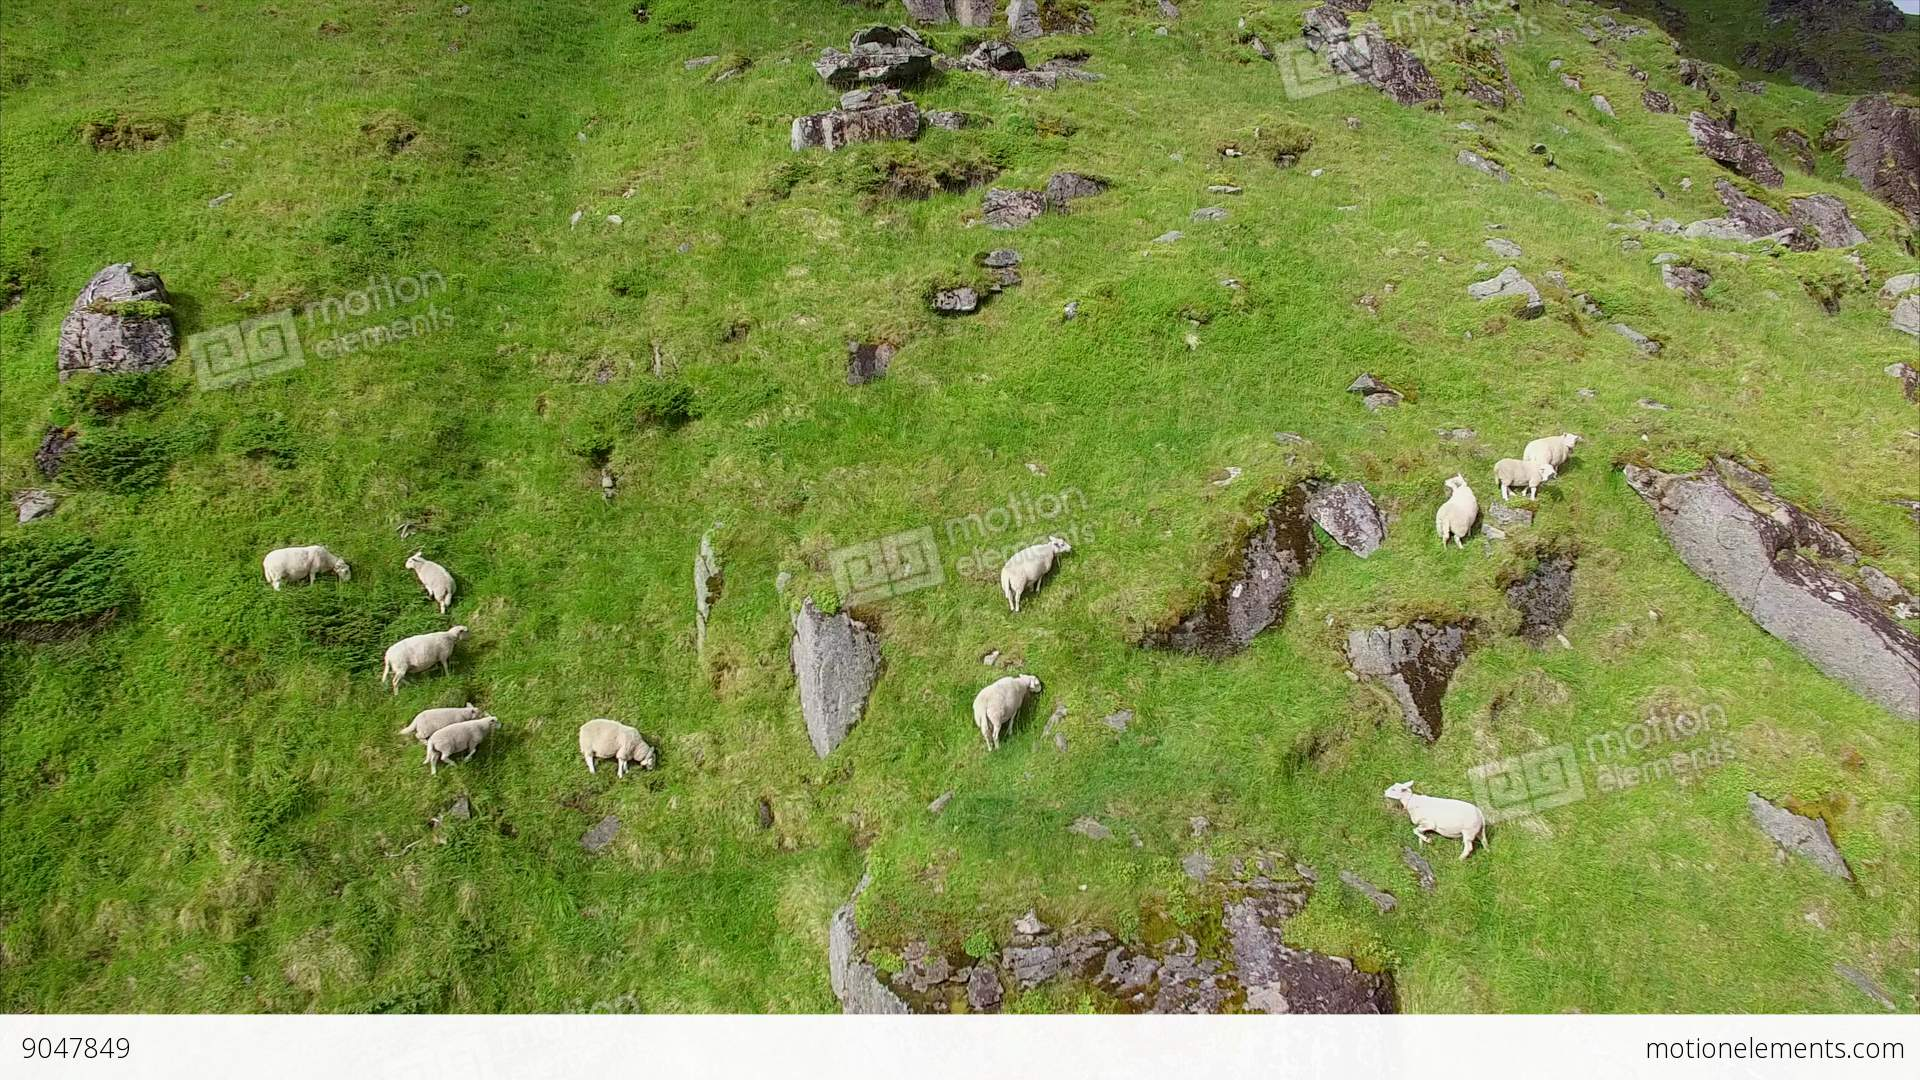sheep: (1385, 781, 1489, 856), (382, 618, 472, 688), (1000, 535, 1073, 615), (972, 673, 1040, 752), (419, 713, 502, 778), (579, 721, 658, 775), (260, 541, 349, 588), (1433, 473, 1480, 551), (405, 550, 456, 617), (407, 702, 479, 748), (1491, 458, 1557, 501), (1522, 429, 1582, 475)
